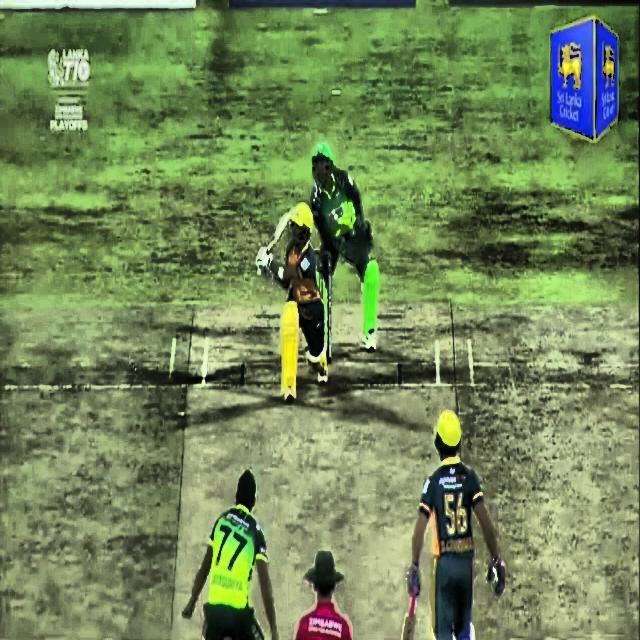Right-stump: (326, 252, 332, 364)
